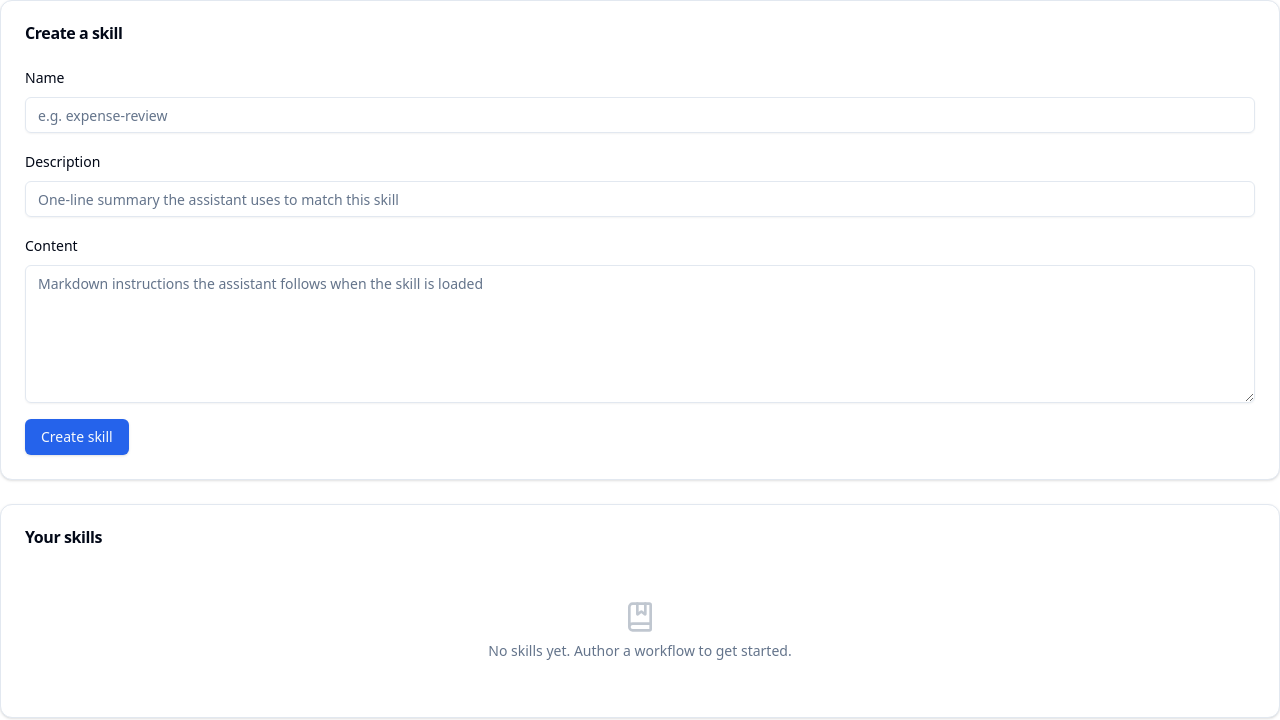
Test: SkillsPanel › shows field validation errors for an empty submission
The image size is (1280, 720).
expect the text "No skills yet. Author a workflow to get started." is shown: met, box [488,641,792,661]
Click the button "Create skill" at (77, 437), box [25,419,129,455]
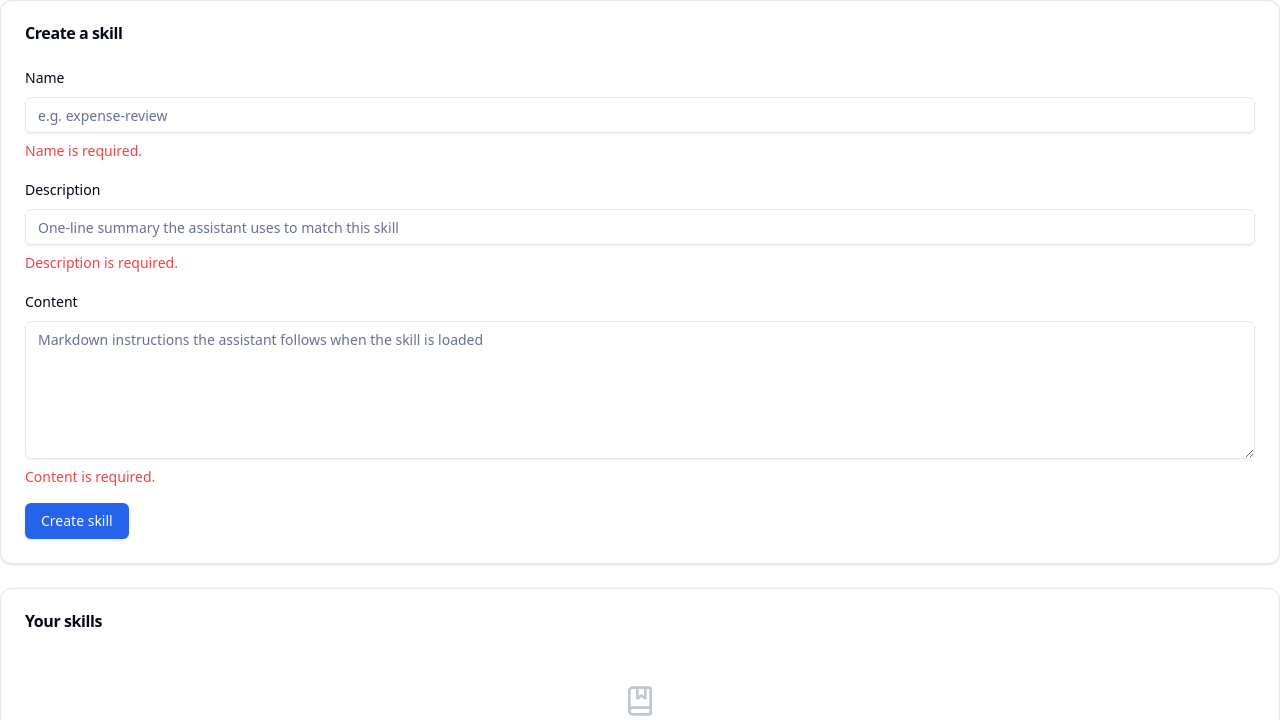
expect the text "Name is required." is shown: met, box [25,141,142,160]
expect the text "Description is required." is shown: met, box [25,253,178,272]
expect the text "Content is required." is shown: met, box [25,467,155,486]
